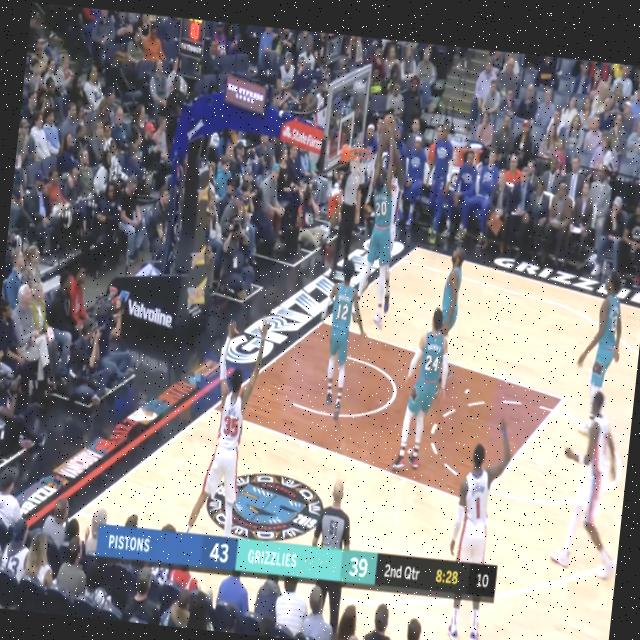foul: (347, 110, 418, 335)
no foul: (394, 241, 472, 472), (314, 254, 363, 426)
